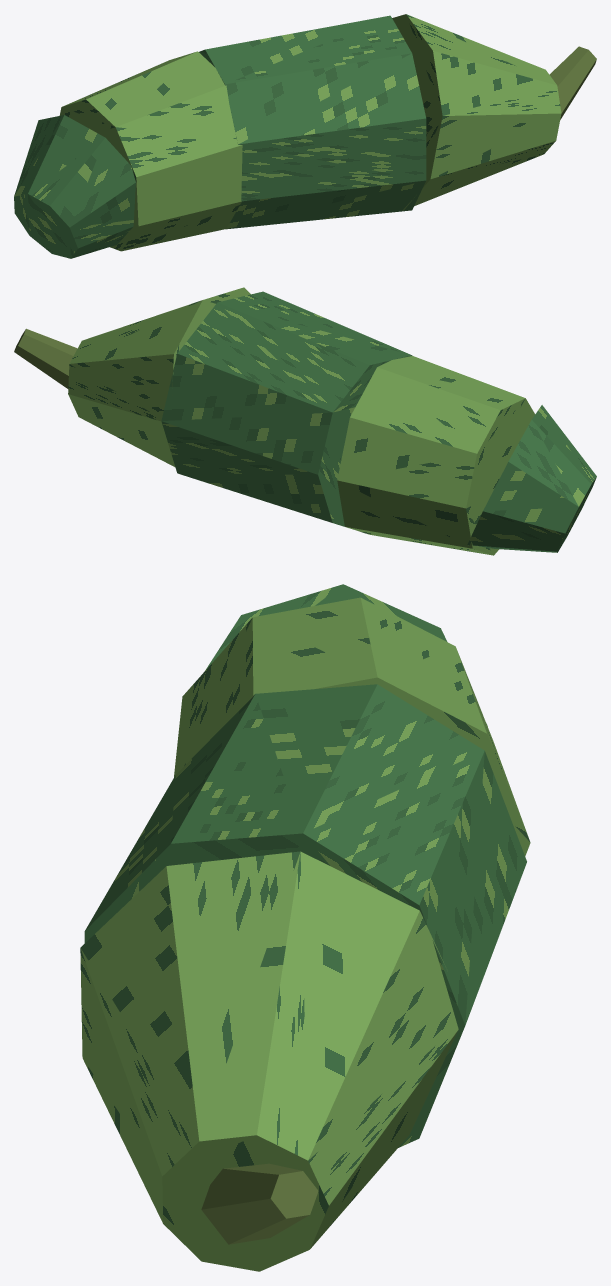
File: zucchini.glb
The picture shows the model from 3 angles, top to bottom: view 1: azimuth 30°, elevation 25°; view 2: azimuth 150°, elevation 25°; view 3: azimuth 270°, elevation 25°; orthographic projection. The views are drawn at different scales.
Parts seen in each view (by area): view 1: block_zucchini 2, block_zucchini 1, block_zucchini 3, block_zucchini 0, block_green peduncle; view 2: block_zucchini 2, block_zucchini 1, block_zucchini 3, block_zucchini 0, block_green peduncle; view 3: block_zucchini 3, block_zucchini 2, block_zucchini 1, block_green peduncle, block_zucchini 0.
Boxes of the visible parts, left/top/right/bottom form: block_zucchini 2: left=199, top=15, right=426, bottom=229; block_zucchini 1: left=59, top=51, right=242, bottom=251; block_zucchini 3: left=392, top=14, right=561, bottom=210; block_zucchini 0: left=14, top=115, right=135, bottom=258; block_green peduncle: left=549, top=46, right=596, bottom=119; block_zucchini 2: left=161, top=291, right=412, bottom=526; block_zucchini 1: left=337, top=356, right=534, bottom=555; block_zucchini 3: left=68, top=287, right=250, bottom=466; block_zucchini 0: left=467, top=405, right=596, bottom=552; block_green peduncle: left=14, top=328, right=77, bottom=388; block_zucchini 3: left=80, top=851, right=458, bottom=1271; block_zucchini 2: left=84, top=684, right=526, bottom=1147; block_zucchini 1: left=174, top=597, right=530, bottom=855; block_green peduncle: left=201, top=1163, right=318, bottom=1244; block_zucchini 0: left=205, top=584, right=487, bottom=726.
Size of the model in its own units: 0.22 by 0.0665 by 0.076.
Materials: 1 (1 with a texture image).
